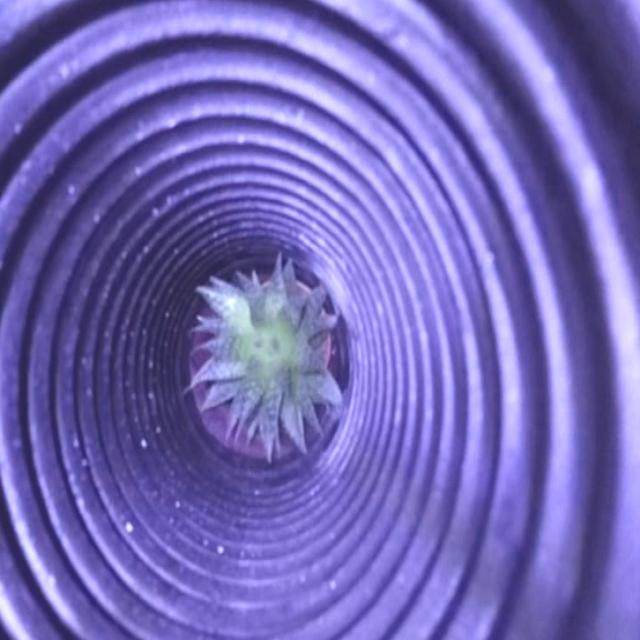leaf: (198, 269, 341, 453)
